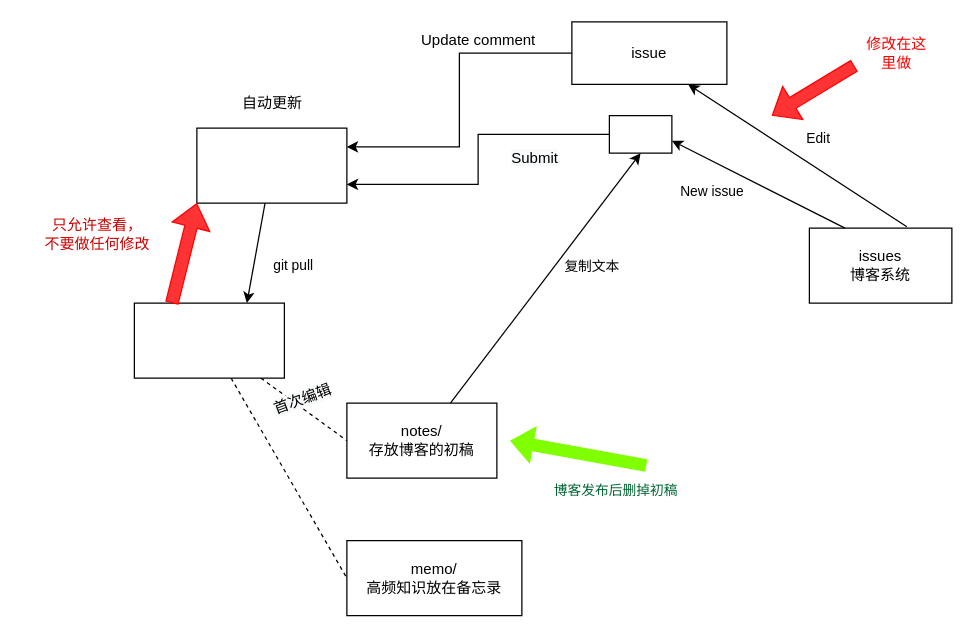
The diagram is 974 pixels wide and 638 high, and some of its shapes have lost their labels. The shapes that lost their labels are listed below. From the top down, each one's centre as x and y in pixels, then its label:
At [271,165]: "README.md BACKUP/".
At [208,340]: "本地仓库".
